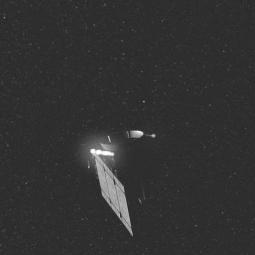earth_observation_sat_1: (86, 127, 166, 220)
